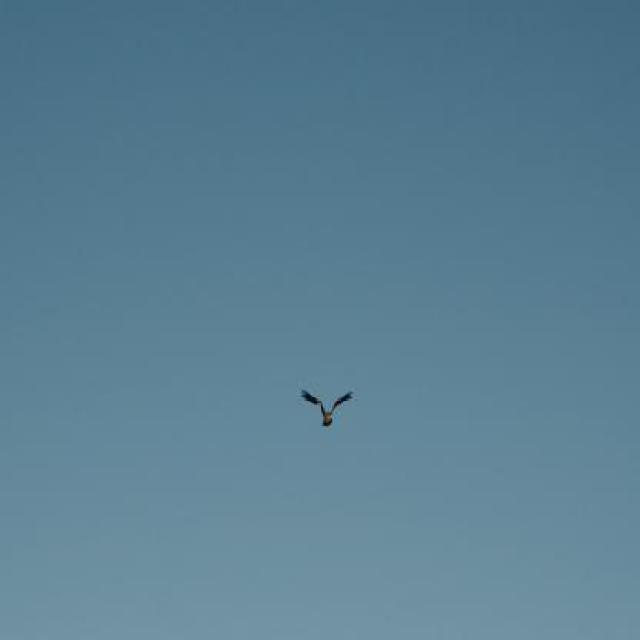bird: (293, 379, 356, 435)
